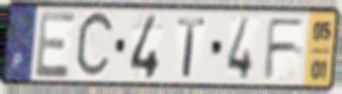4: (128, 11, 162, 81), (224, 14, 257, 82)
C: (73, 8, 117, 83)
E: (34, 9, 79, 80)
F: (262, 16, 308, 82)
T: (176, 16, 208, 79)
